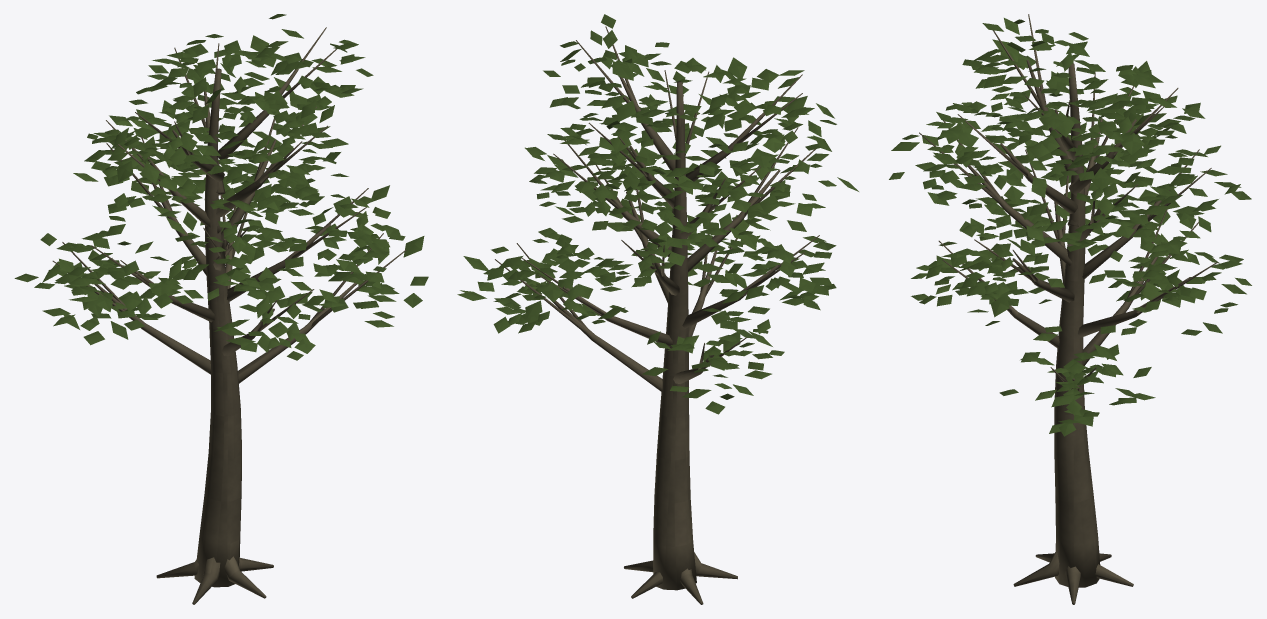
Rendered from veg_tree_broadleaf.glb.
3 views of the same model, side by side, from view 1: azimuth 30°, elevation 25°; view 2: azimuth 150°, elevation 25°; view 3: azimuth 270°, elevation 25° (orthographic). The views are drawn at different scales.
Visible parts, largest first — view 1: foliage, trunk_and_branches; view 2: foliage, trunk_and_branches; view 3: foliage, trunk_and_branches.
Part boxes in pixels (x1,y1,x2,y2): foliage: (14, 14, 428, 360); trunk_and_branches: (52, 27, 406, 604); foliage: (457, 14, 858, 414); trunk_and_branches: (495, 26, 819, 604); foliage: (889, 18, 1251, 436); trunk_and_branches: (919, 14, 1217, 604).
Bounding box in the file's own units: 4.96 × 7 × 4.19.
Materials: 2 (2 with a texture image).
